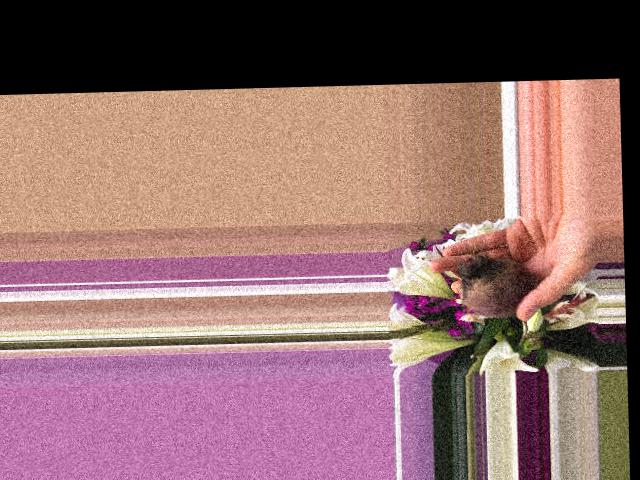beet: (456, 255, 537, 348)
